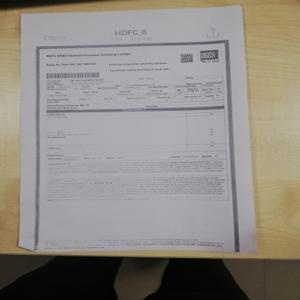image: (197, 44, 221, 60)
table: (46, 77, 224, 110)
text: (42, 175, 227, 199)
